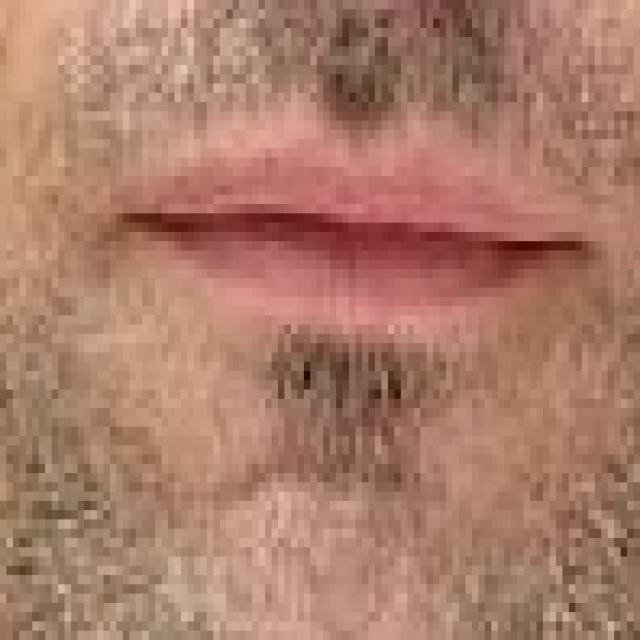closed-mouth: (109, 139, 602, 337)
